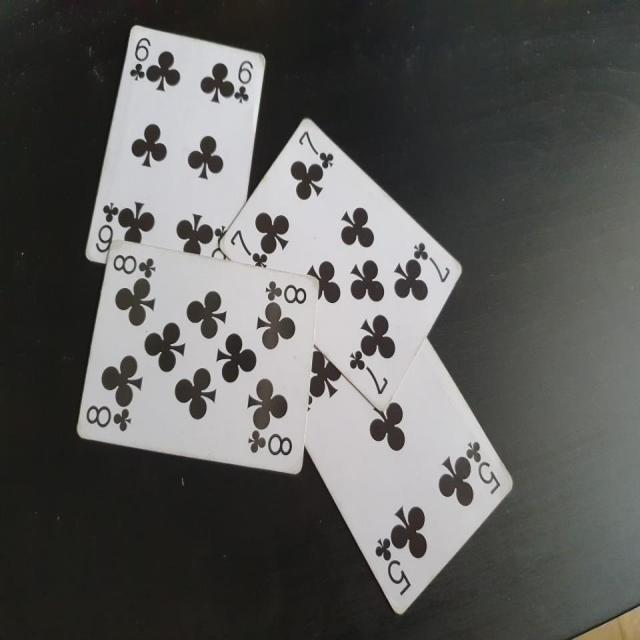5 of clubs: (303, 336, 518, 614)
6 of clubs: (83, 22, 267, 265)
7 of clubs: (218, 116, 462, 412)
8 of clubs: (76, 239, 321, 474)
